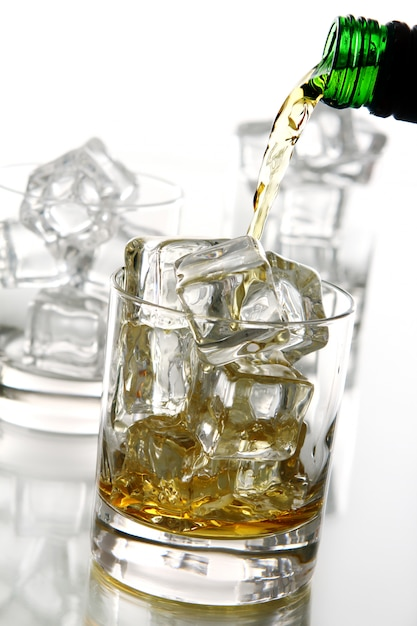alcohol: (88, 236, 363, 614), (319, 10, 417, 126)
